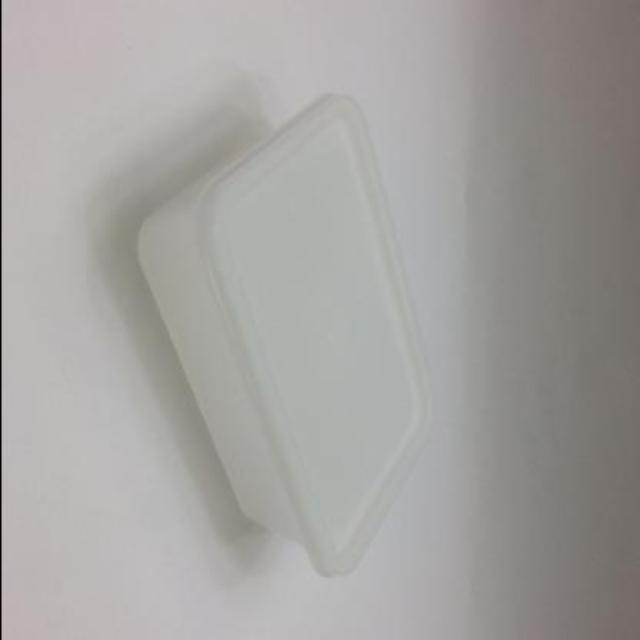plastic_box: (135, 101, 435, 574)
